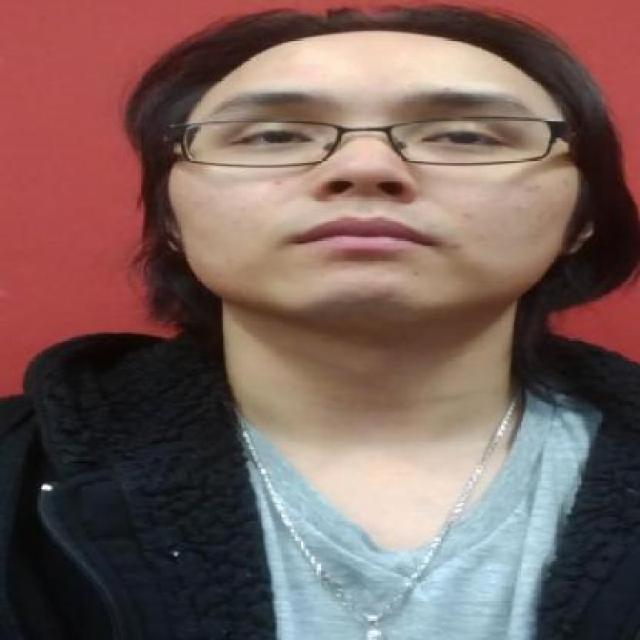awake: (234, 119, 314, 153)
